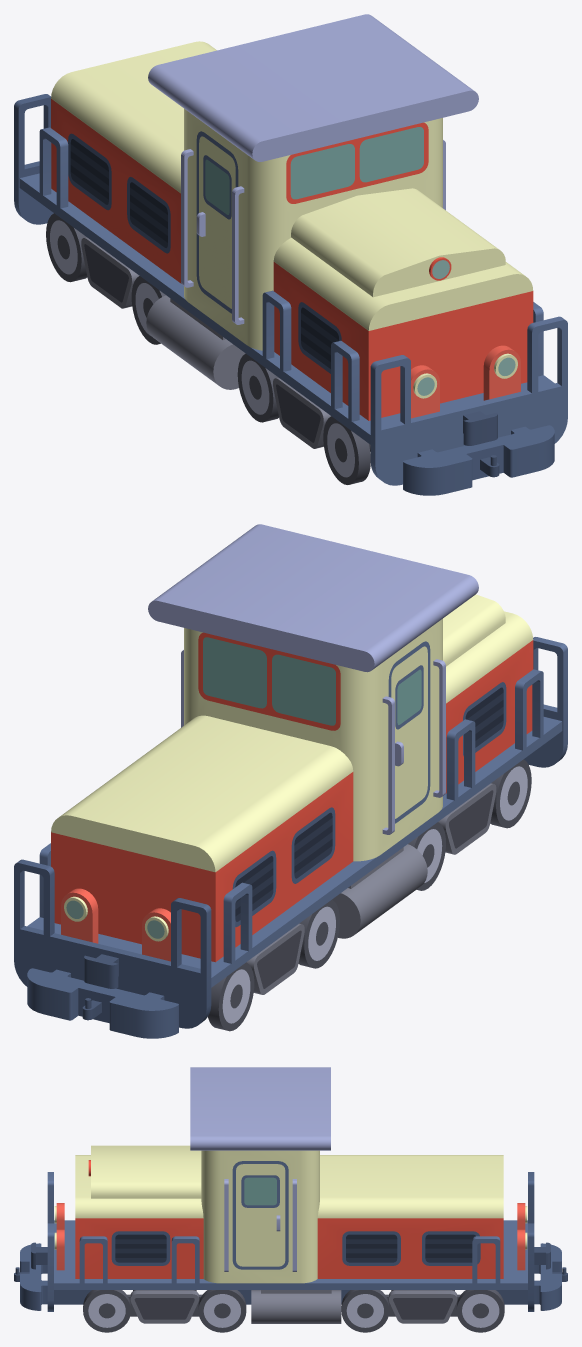
The model's file is Lokomotive A.fbx.
The picture shows the model from 3 angles, top to bottom: view 1: azimuth 30°, elevation 25°; view 2: azimuth 150°, elevation 25°; view 3: azimuth 270°, elevation 25°; orthographic projection. The views are drawn at different scales.
Parts seen in each view (by area): view 1: Locomotive A, Locomotive A Door.001, Locomotive A Wheel, Locomotive A Wheel.005, Locomotive A Wheel.004, Locomotive A Wheel.003, Locomotive A Wheel.001, Locomotive A Wheel.002; view 2: Locomotive A, Locomotive A Door.001, Locomotive A Wheel.004, Locomotive A Wheel.005, Locomotive A Wheel.003, Locomotive A Wheel, Locomotive A Wheel.002, Locomotive A Wheel.001; view 3: Locomotive A, Locomotive A Door, Locomotive A Wheel.005, Locomotive A Wheel.004, Locomotive A Wheel.001, Locomotive A Wheel.003, Locomotive A Wheel.002, Locomotive A Wheel.
Boxes of the visible parts, box(x1,y1,x2,y2) form: Locomotive A: box(14, 14, 567, 495); Locomotive A Door.001: box(196, 131, 238, 313); Locomotive A Wheel: box(323, 416, 370, 484); Locomotive A Wheel.005: box(81, 237, 139, 308); Locomotive A Wheel.004: box(273, 377, 330, 448); Locomotive A Wheel.003: box(46, 213, 87, 282); Locomotive A Wheel.001: box(237, 353, 278, 422); Locomotive A Wheel.002: box(131, 276, 165, 344); Locomotive A: box(14, 524, 567, 1038); Locomotive A Door.001: box(388, 641, 430, 823); Locomotive A Wheel.004: box(438, 783, 496, 854); Locomotive A Wheel.005: box(246, 923, 304, 994); Locomotive A Wheel.003: box(208, 962, 254, 1031); Locomotive A Wheel: box(490, 759, 531, 828); Locomotive A Wheel.002: box(298, 900, 339, 968); Locomotive A Wheel.001: box(408, 822, 445, 890); Locomotive A: box(14, 1067, 567, 1323); Locomotive A Door: box(232, 1161, 288, 1269); Locomotive A Wheel.005: box(385, 1290, 460, 1323); Locomotive A Wheel.004: box(127, 1290, 201, 1323); Locomotive A Wheel.001: box(198, 1290, 246, 1332); Locomotive A Wheel.003: box(456, 1290, 504, 1332); Locomotive A Wheel.002: box(341, 1290, 389, 1332); Locomotive A Wheel: box(83, 1290, 130, 1332).
Size of the model in its own units: 3.11 by 3.94 by 9.78.
